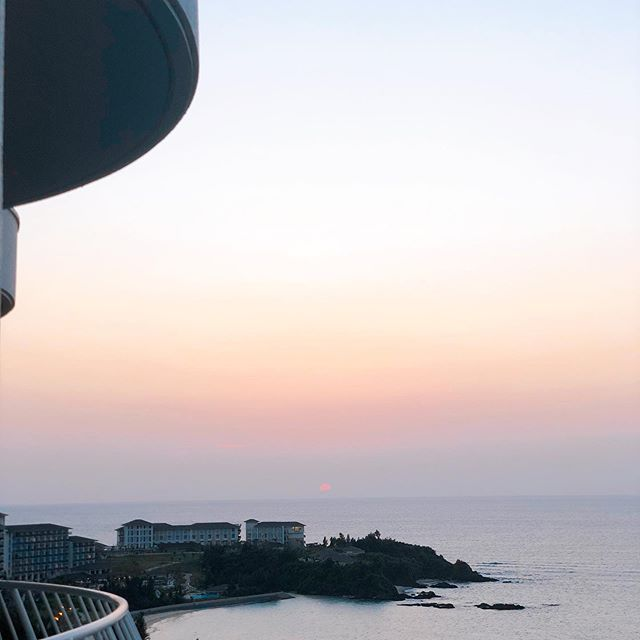building: (2, 519, 102, 579), (112, 515, 243, 554), (248, 516, 313, 559)
sea: (68, 502, 640, 640)
sky: (19, 1, 640, 484)
